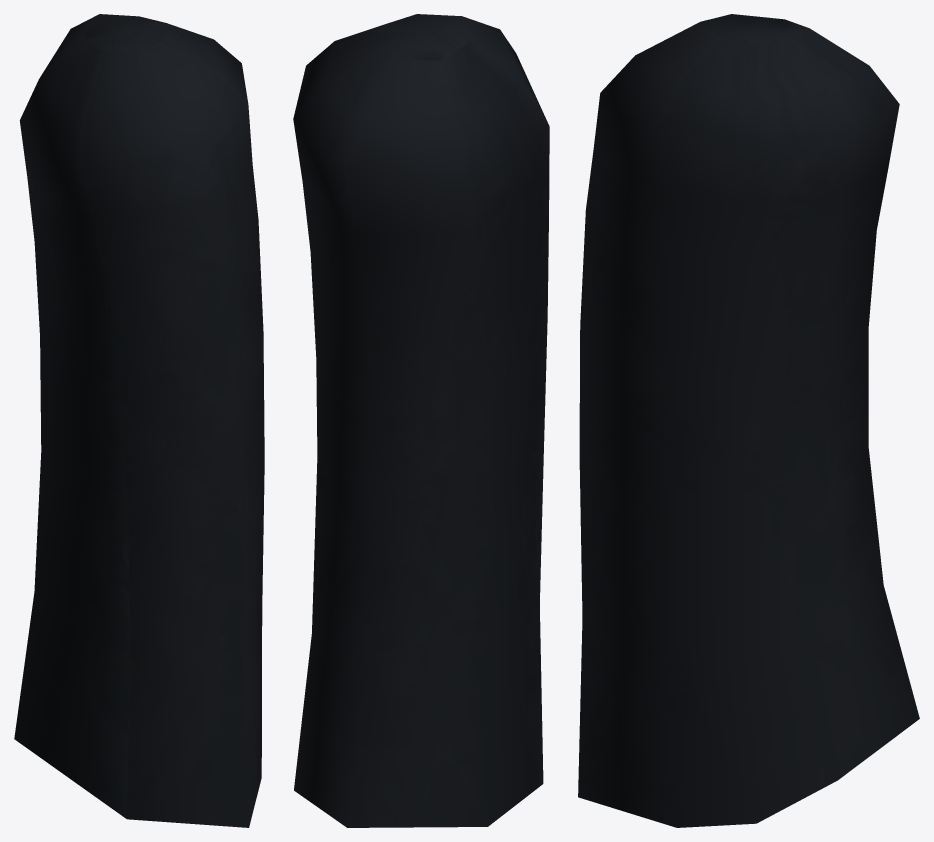
The model's file is RightLeg2.dae.
The picture shows the model from 3 angles, left to right: view 1: azimuth 30°, elevation 25°; view 2: azimuth 150°, elevation 25°; view 3: azimuth 270°, elevation 25°; orthographic projection. The views are drawn at different scales.
Visible parts, largest first — view 1: H_DDS_LowRes_011; view 2: H_DDS_LowRes_011; view 3: H_DDS_LowRes_011.
Boxes of the visible parts, box(x1,y1,x2,y2) form: H_DDS_LowRes_011: box(14, 14, 264, 827); H_DDS_LowRes_011: box(293, 14, 549, 827); H_DDS_LowRes_011: box(578, 14, 919, 827).
Bounding box in the file's own units: 0.1469 × 0.2145 × 0.523.
Materials: 1 (1 with a texture image).
